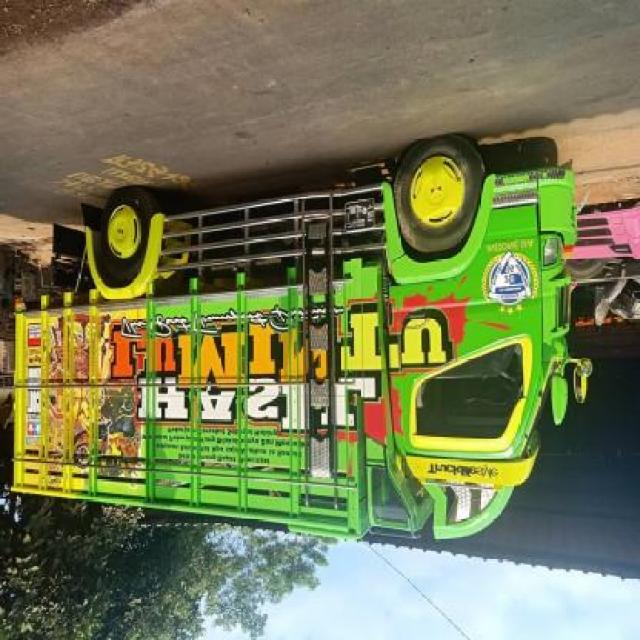truck: (14, 139, 596, 548)
